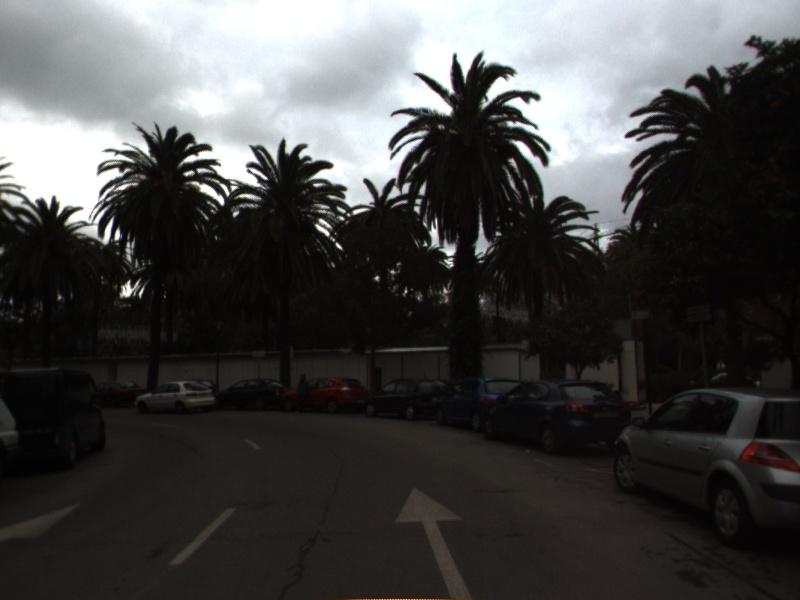STRAIGHT: (390, 483, 477, 600)
